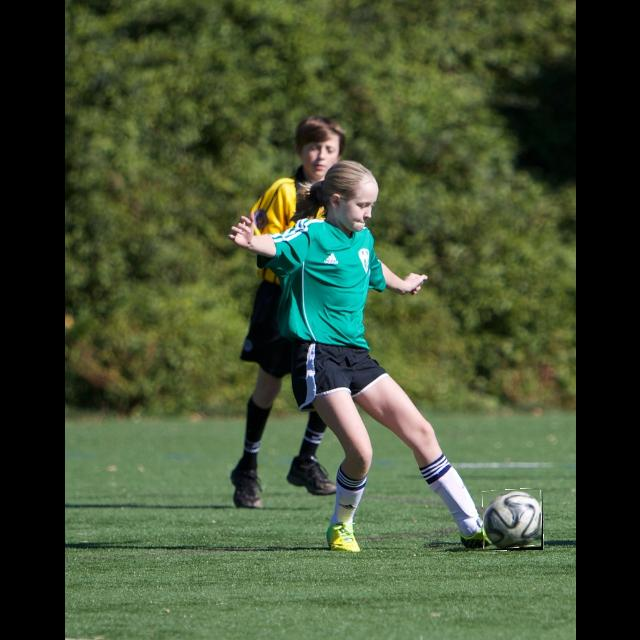Football: (483, 490, 543, 550)
